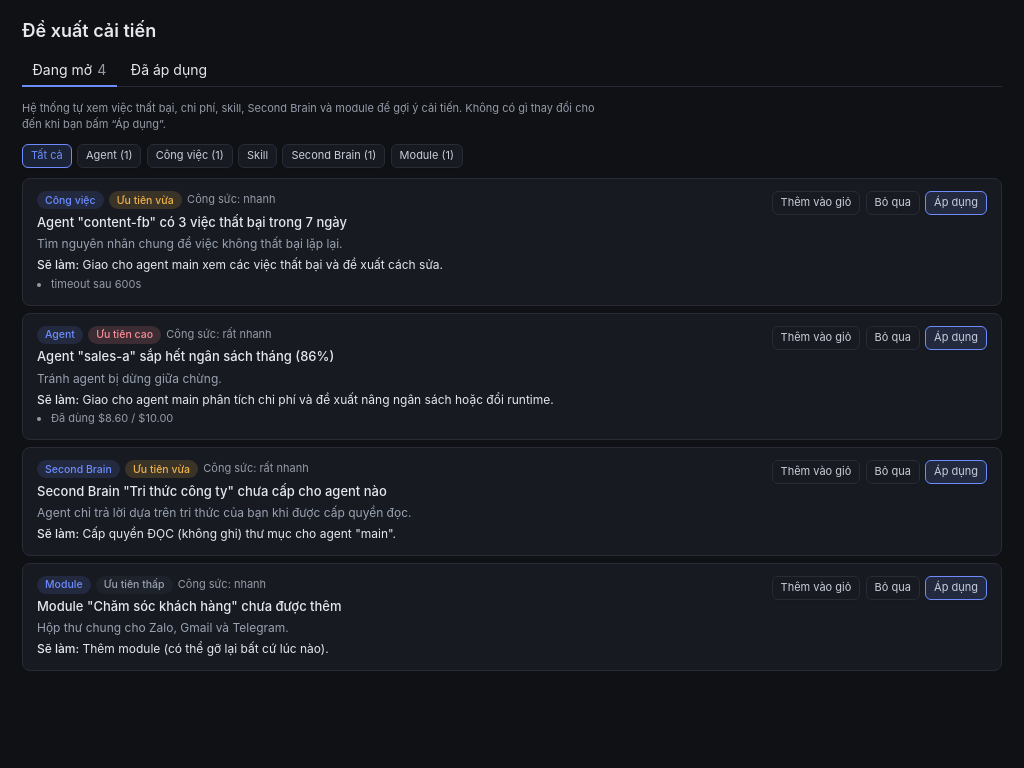
Test case: team screens with the mock api › Đề xuất cải tiến: cart and apply
What coordinates should you click on to do the following:
click the button "Thêm vào giỏ" in the row of "Ưu tiên cao"
I would click on:
 (816, 338)
Its box is [772, 326, 860, 350].
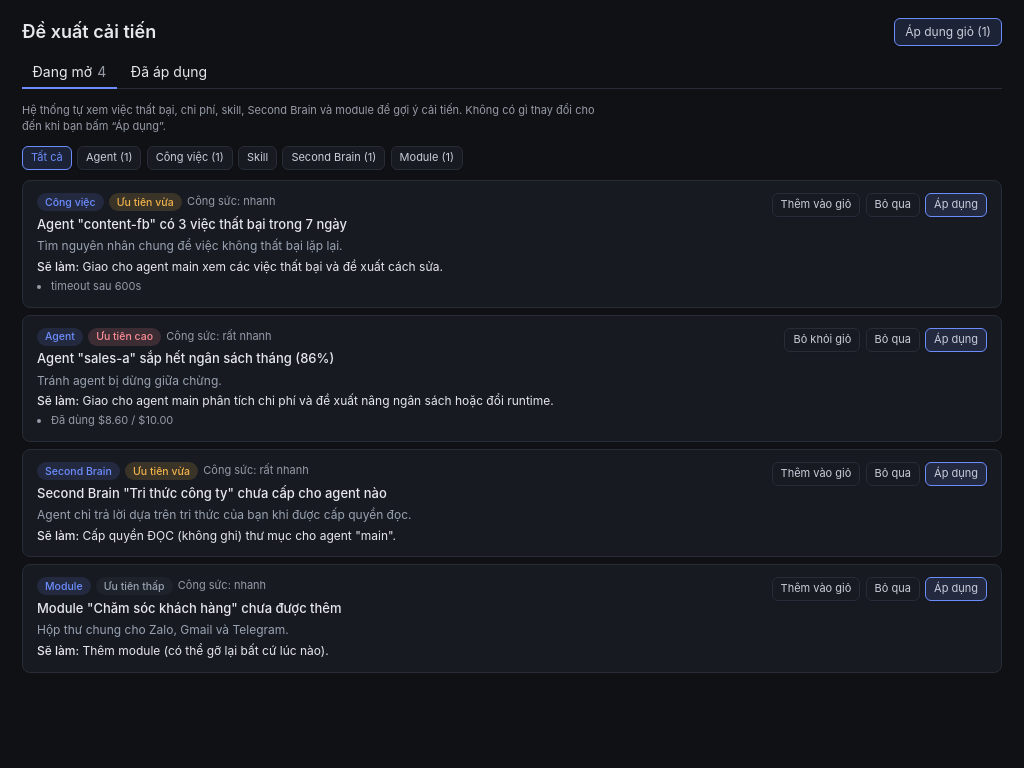
Expected: the text "Áp dụng giỏ (1)" is shown
What coordinates should you click on to do the following:
click the button "Áp dụng giỏ (1)"
I would click on:
 (948, 32)
Its box is [894, 18, 1002, 46].
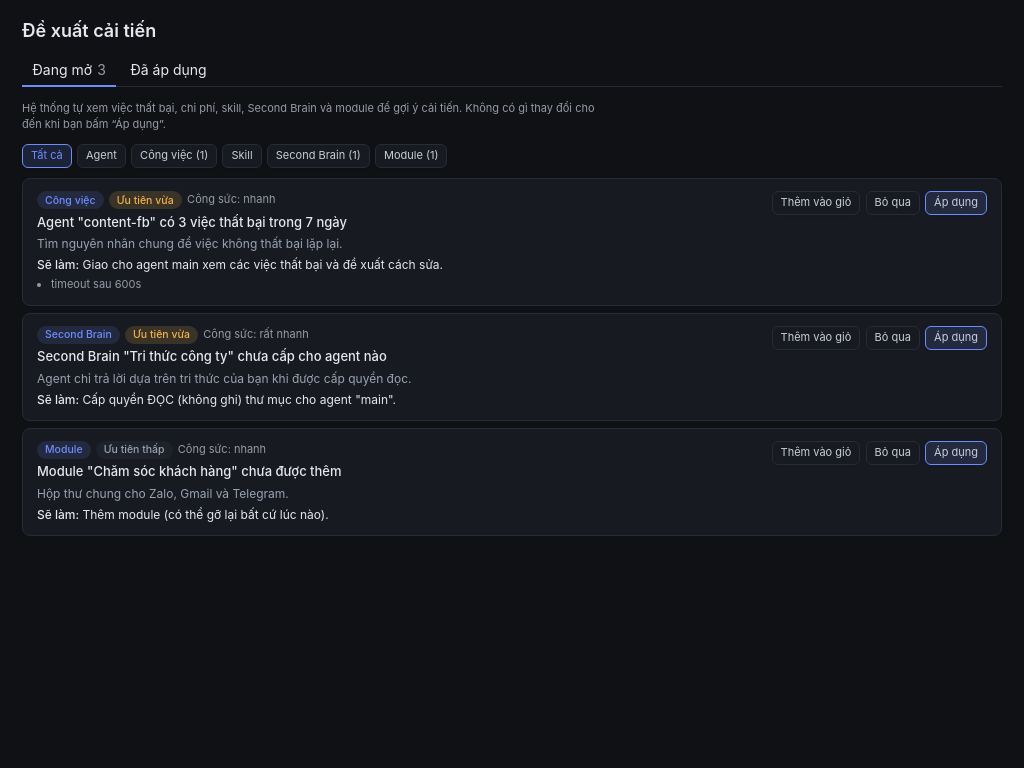
Expected: the text "sắp hết ngân sách" is gone
